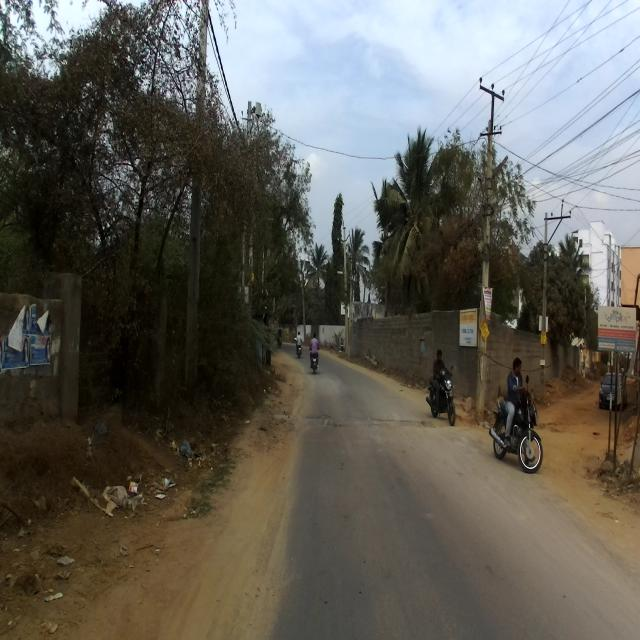electric pole ahead at: (470, 68, 506, 431)
motorcycle ahead at: (490, 396, 545, 478)
